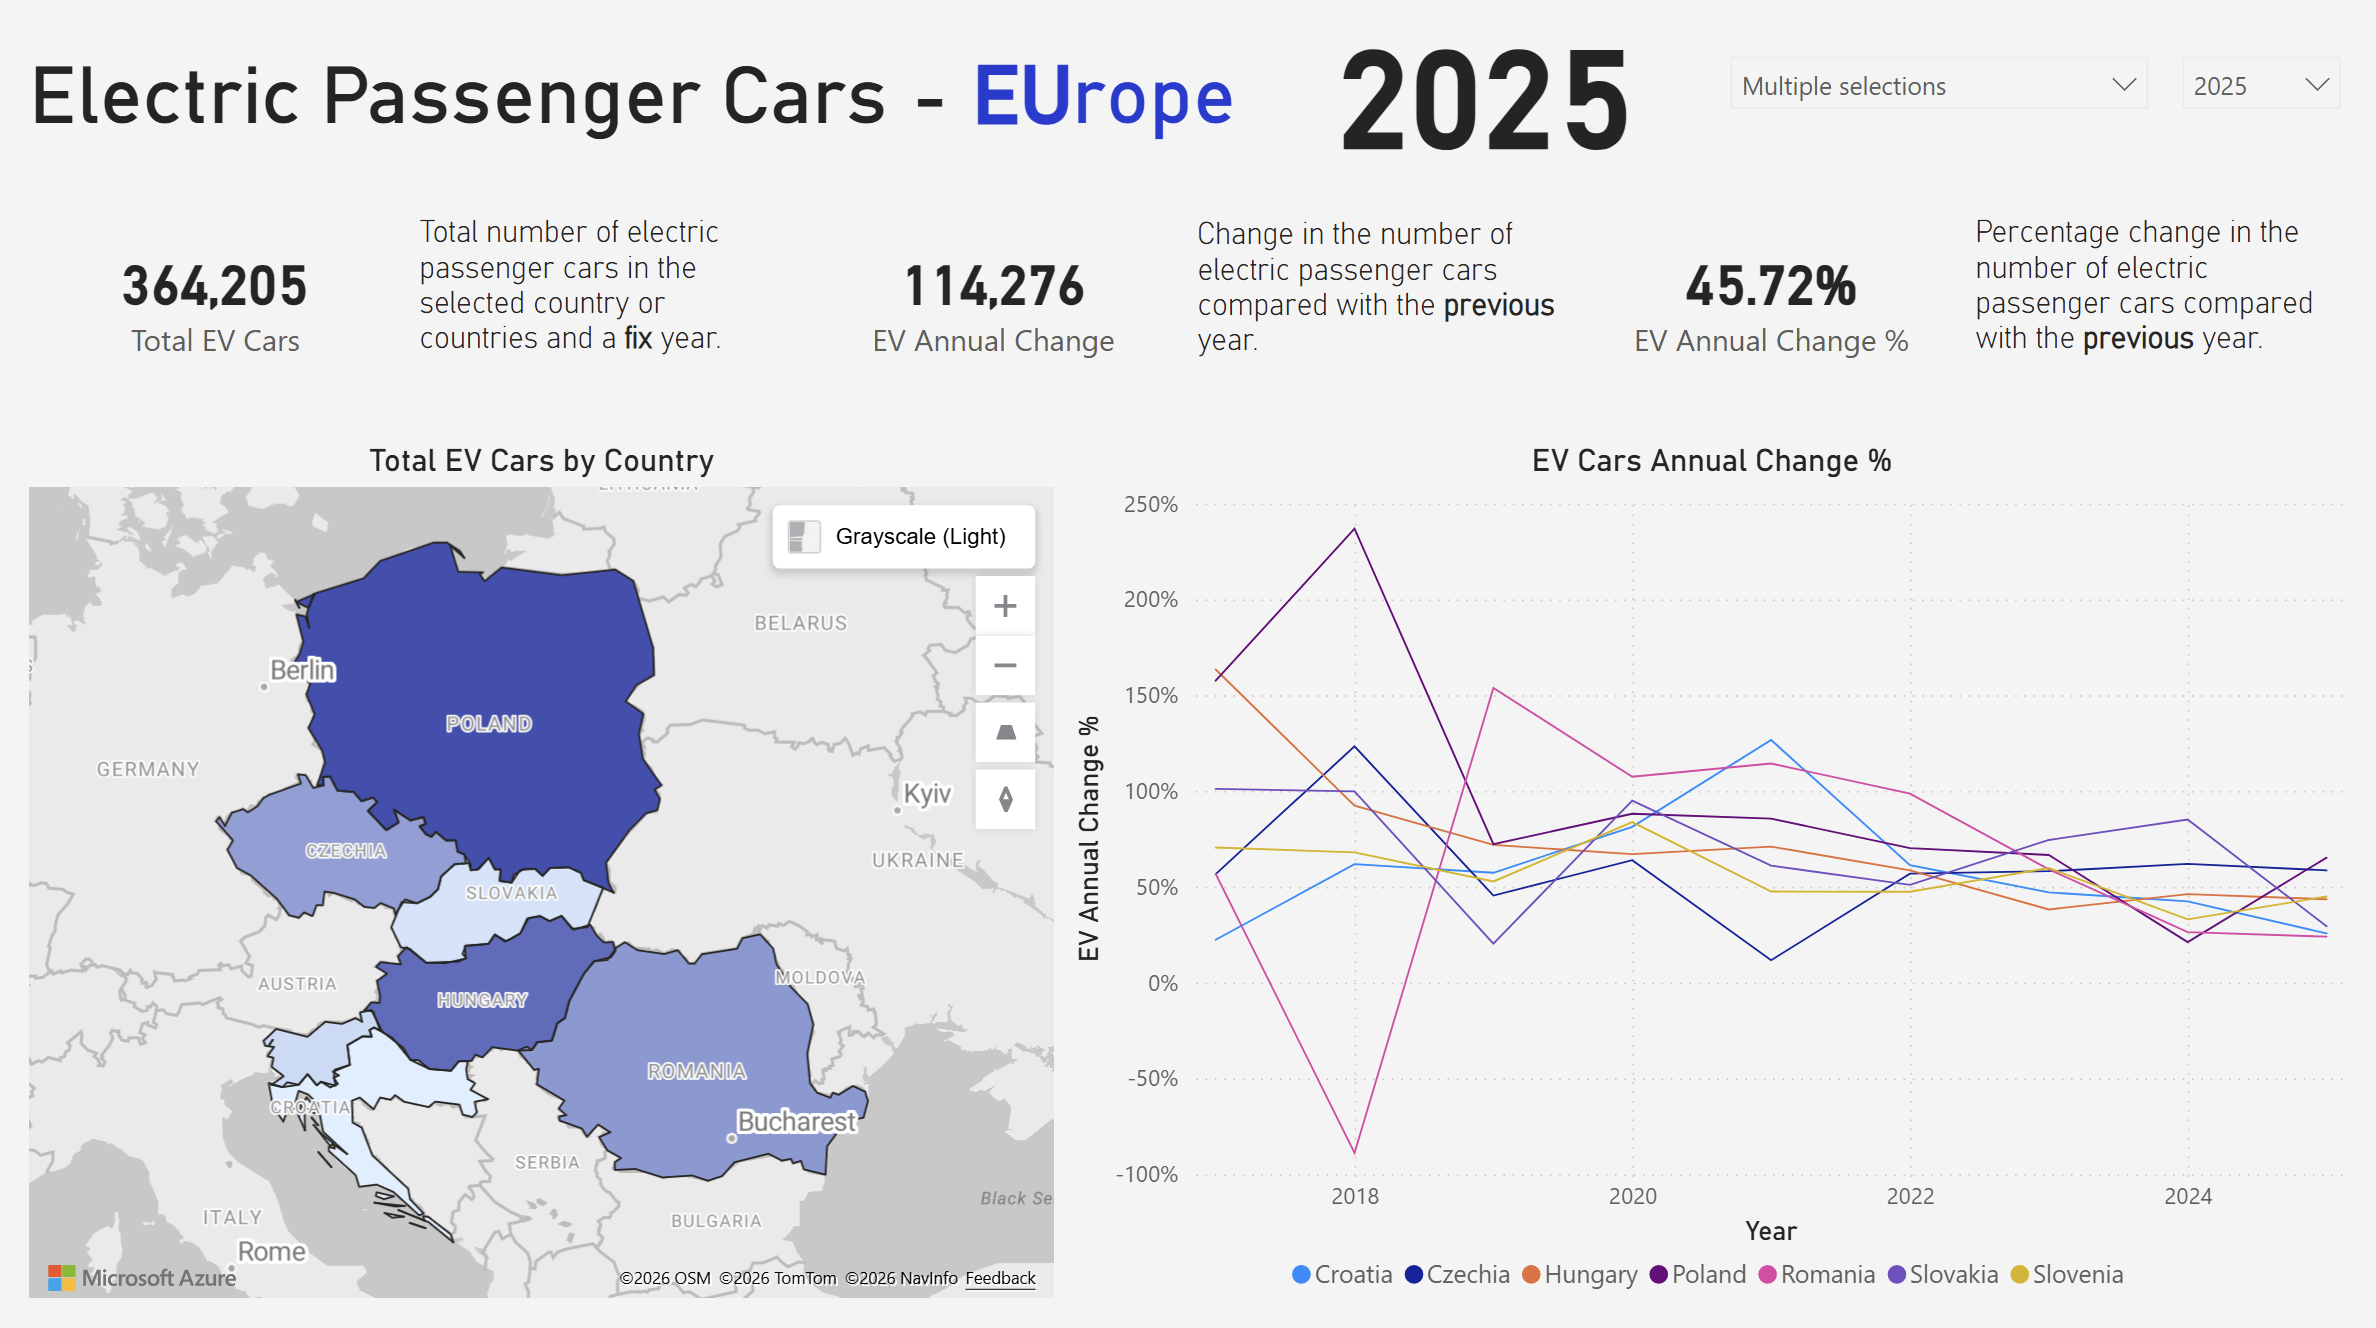

Layout of this report page (visuals, bound fields, positions):
{"tool":"powerbi","page":{"name":"Page 1","canvas":[1280,720],"ordinal":0},"visuals":[{"type":"slicer","fields":{"Values":["dim_Country.Country"]},"box":[920.7,26,244.3,50.8],"z":0},{"type":"slicer","fields":{"Values":["dim_Year.Year"]},"box":[1163.8,26,105,50.8],"z":1000},{"type":"azureMap","title":"Total EV Cars by Country","fields":{"Category":["dim_Country.Country"]},"box":[11.8,243.1,560.7,465],"z":2000},{"type":"cardVisual","fields":{"Data":["Appended_EV_Cars_Data.Total EV Cars"]},"box":[11.8,114.5,210.1,109.8],"z":3000},{"type":"cardVisual","fields":{"Data":["Appended_EV_Cars_Data.EV Annual Change"]},"box":[429.6,114.5,210.1,109.8],"z":4000},{"type":"cardVisual","fields":{"Data":["Appended_EV_Cars_Data.EV Annual Change %"]},"box":[847.5,114.5,210.1,109.8],"z":5000},{"type":"lineChart","title":"EV Cars Annual Change %","fields":{"Series":["dim_Country.Country"],"Category":["dim_Year.Year"],"Y":["Appended_EV_Cars_Data.EV Annual Change %"]},"box":[572.5,243.1,696.4,466.2],"z":6000},{"type":"textbox","box":[11.8,26,711.7,74.4],"z":7000},{"type":"textbox","box":[221.9,114.5,207.7,109.8],"z":8000},{"type":"textbox","box":[639.7,115.7,207.7,108.6],"z":9000},{"type":"textbox","box":[1057.6,114.5,211.3,109.8],"z":10000},{"type":"cardVisual","fields":{"Data":["Appended_EV_Cars_Data.Selected Year"]},"box":[677.5,0,245.5,114.5],"z":11000}]}

Visuals, with their boxes in screenshot pixels (x1, y1, x2, y2), scaled from the page's 1280x720 canvas onto the 2376x1328 screenshot:
slicer - dim_Country.Country: 1709/48/2163/142
slicer - dim_Year.Year: 2160/48/2355/142
"Total EV Cars by Country" azureMap: 22/448/1063/1306
cardVisual - Appended_EV_Cars_Data.Total EV Cars: 22/211/412/414
cardVisual - Appended_EV_Cars_Data.EV Annual Change: 797/211/1187/414
cardVisual - Appended_EV_Cars_Data.EV Annual Change %: 1573/211/1963/414
"EV Cars Annual Change %" lineChart: 1063/448/2355/1308
textbox: 22/48/1343/185
textbox: 412/211/797/414
textbox: 1187/213/1573/414
textbox: 1963/211/2355/414
cardVisual - Appended_EV_Cars_Data.Selected Year: 1258/0/1713/211
